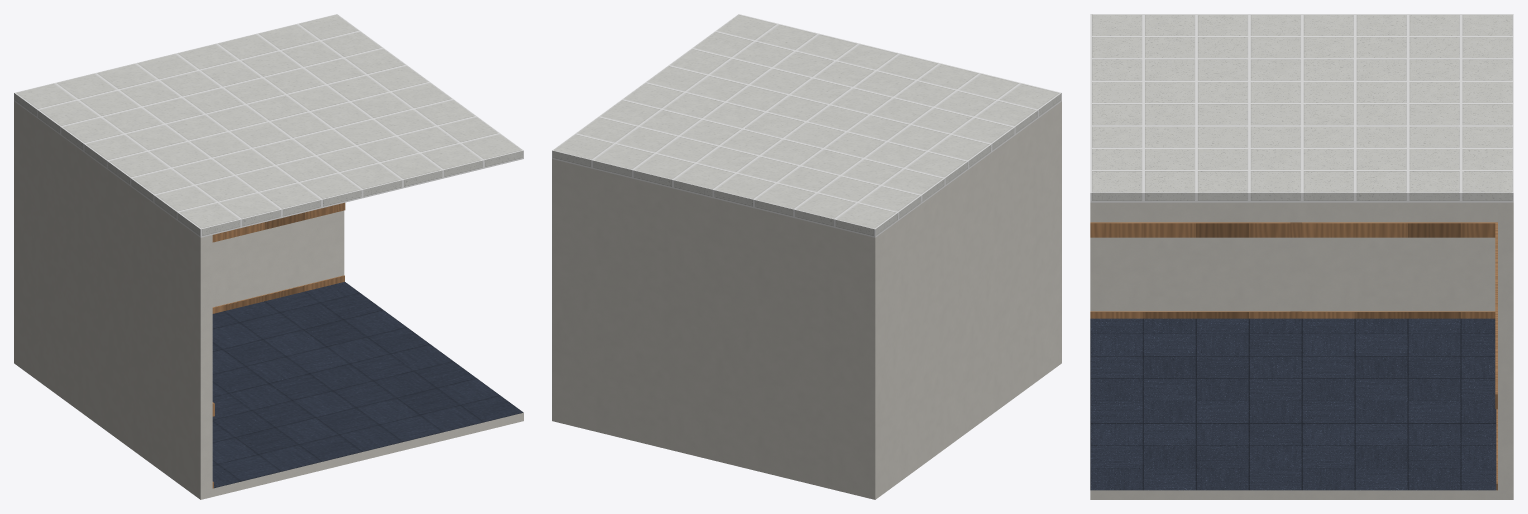
File: Room_Office_Corner_NoLight.glb
3 views of the same model, side by side, from view 1: azimuth 30°, elevation 25°; view 2: azimuth 150°, elevation 25°; view 3: azimuth 270°, elevation 25° (orthographic). The views are drawn at different scales.
Visible parts, largest first — view 1: Room_Office_Corner_NoLight, Room_Office_Corner_NoLight_Ceiling; view 2: Room_Office_Corner_NoLight, Room_Office_Corner_NoLight_Ceiling; view 3: Room_Office_Corner_NoLight, Room_Office_Corner_NoLight_Ceiling.
Boxes of the visible parts, <box> form: Room_Office_Corner_NoLight: <box>14,101,523,499</box>; Room_Office_Corner_NoLight_Ceiling: <box>14,14,523,237</box>; Room_Office_Corner_NoLight: <box>552,101,1061,499</box>; Room_Office_Corner_NoLight_Ceiling: <box>552,14,1061,237</box>; Room_Office_Corner_NoLight: <box>1090,202,1513,499</box>; Room_Office_Corner_NoLight_Ceiling: <box>1090,14,1513,202</box>.
Bounding box in the file's own units: 4 × 3.2 × 4.
4 materials, 4 textured.
